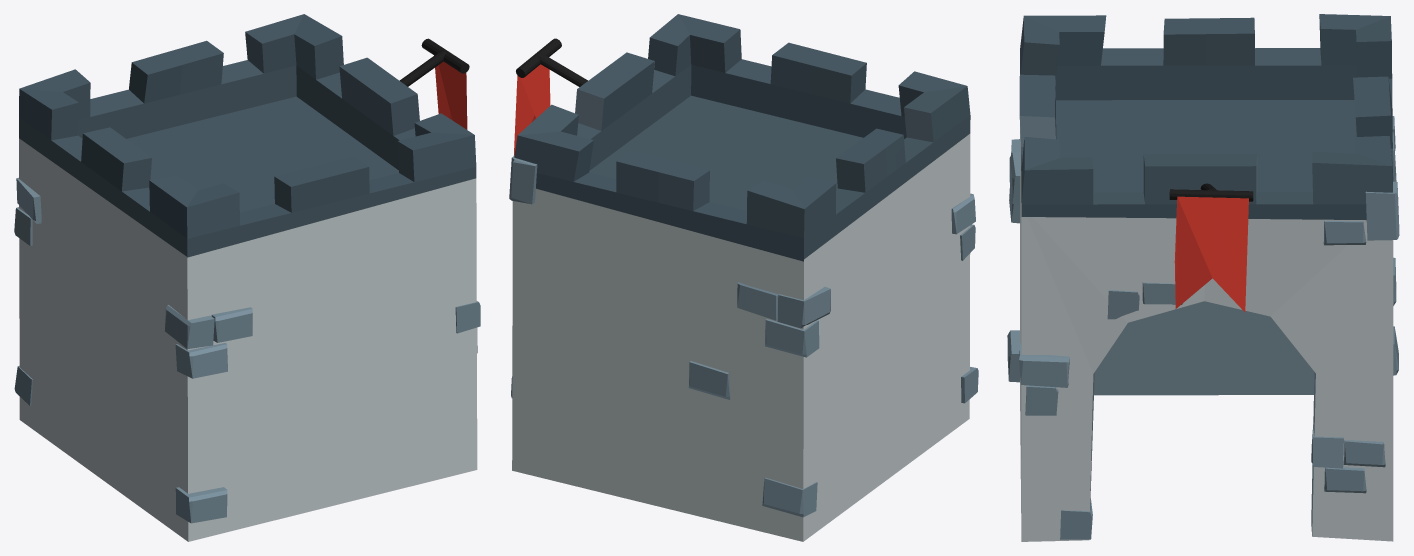
The model's file is tower_lvl1.fbx.
The picture shows the model from 3 angles, left to right: view 1: azimuth 30°, elevation 25°; view 2: azimuth 150°, elevation 25°; view 3: azimuth 270°, elevation 25°; orthographic projection. The views are drawn at different scales.
Visible parts, largest first — view 1: group1552197372; view 2: group1552197372; view 3: group1552197372.
Boxes of the visible parts, x1=… form: group1552197372: x1=14, y1=14, x2=480, y2=541; group1552197372: x1=509, y1=14, x2=978, y2=541; group1552197372: x1=1007, y1=14, x2=1399, y2=541.
Bounding box in the file's own units: 86.9 × 79.57 × 73.32.
